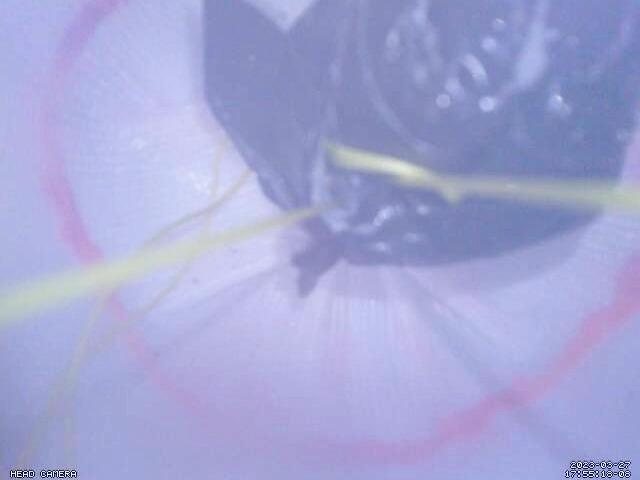head: (35, 0, 640, 464)
